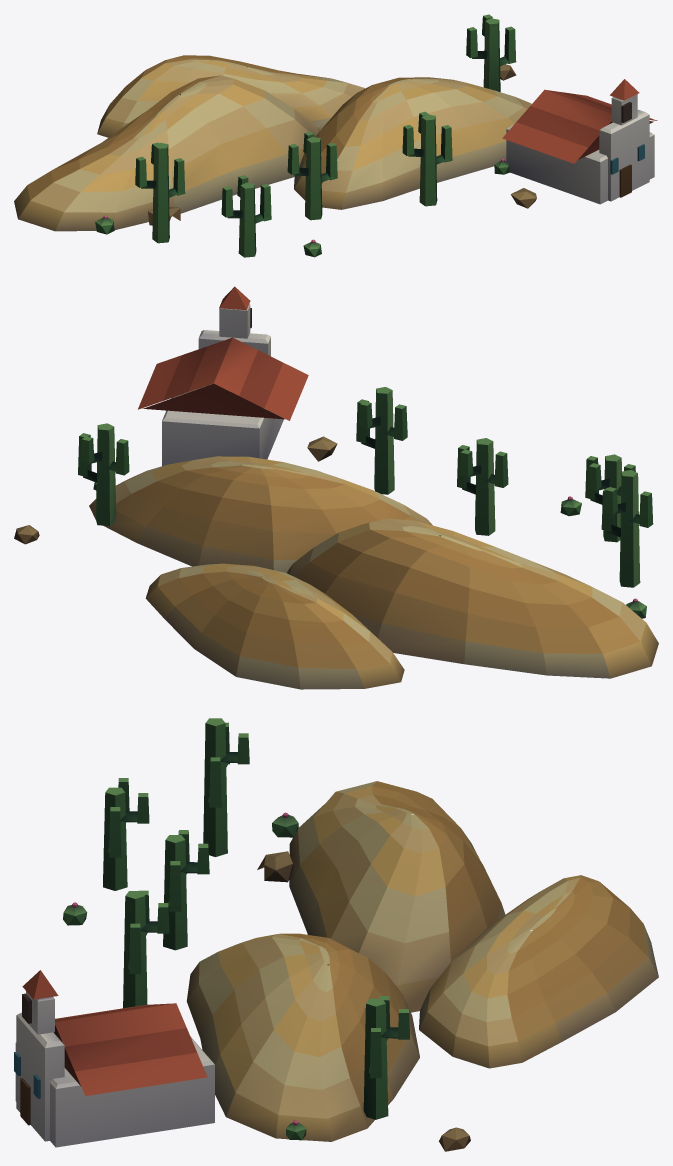
Rendered from coro_medanos.glb.
3 views of the same model, one above another, from view 1: azimuth 30°, elevation 25°; view 2: azimuth 150°, elevation 25°; view 3: azimuth 270°, elevation 25° (orthographic). The views are drawn at different scales.
Visible parts, largest first — view 1: duna_1, duna_2, iglesia_coro, cardones, duna_3, arbustos_secos, cactus_redondo; view 2: duna_1, duna_2, duna_3, iglesia_coro, cardones, arbustos_secos, cactus_redondo; view 3: duna_2, duna_1, duna_3, iglesia_coro, cardones, arbustos_secos, cactus_redondo.
Boxes of the visible parts, x1,y1,x2,y2 form: duna_1: [14, 75, 320, 231]; duna_2: [294, 77, 531, 209]; iglesia_coro: [502, 79, 657, 204]; cardones: [135, 14, 516, 257]; duna_3: [97, 55, 364, 137]; arbustos_secos: [148, 64, 536, 225]; cactus_redondo: [95, 158, 510, 257]; duna_1: [287, 518, 658, 678]; duna_2: [89, 456, 432, 572]; duna_3: [145, 563, 404, 689]; iglesia_coro: [138, 286, 308, 466]; cardones: [78, 387, 653, 587]; arbustos_secos: [14, 436, 337, 544]; cactus_redondo: [93, 482, 646, 618]; duna_2: [186, 933, 419, 1141]; duna_1: [289, 781, 505, 1012]; duna_3: [419, 875, 658, 1068]; iglesia_coro: [14, 970, 214, 1147]; cardones: [103, 718, 409, 1119]; arbustos_secos: [257, 851, 470, 1151]; cactus_redondo: [63, 812, 306, 1140].
Size of the model in its own units: 84.78 by 17.5 by 64.33.
